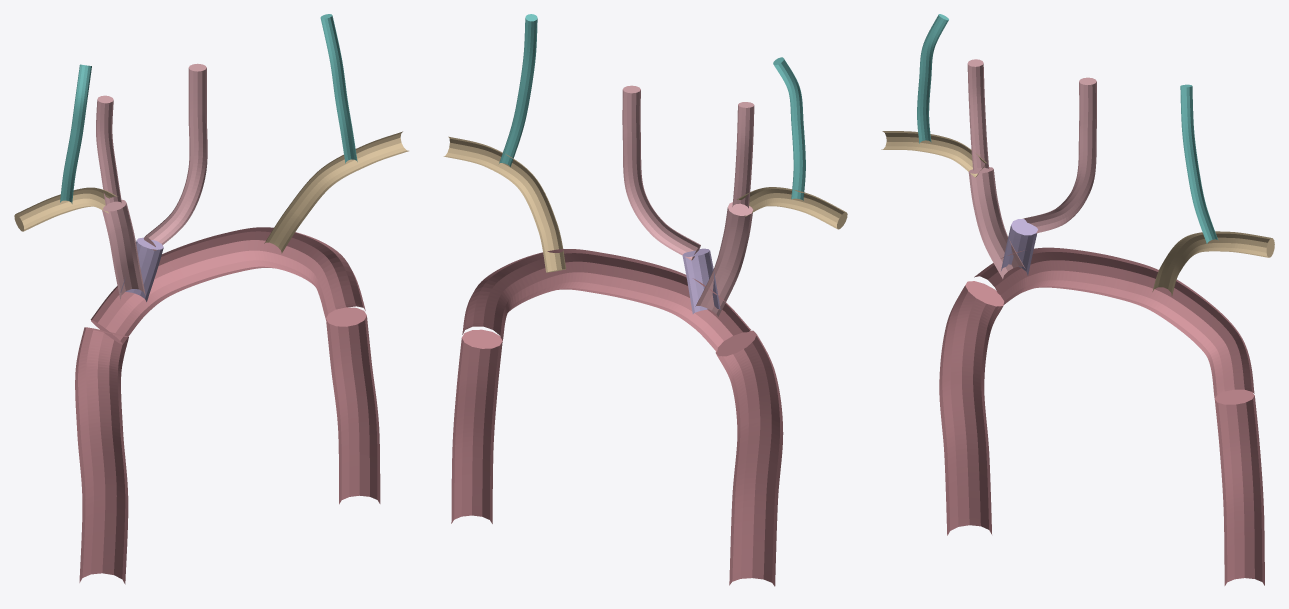
File: arch_common.glb
3 views of the same model, side by side, from view 1: azimuth 30°, elevation 25°; view 2: azimuth 150°, elevation 25°; view 3: azimuth 330°, elevation 25° (orthographic). The views are drawn at different scales.
Visible parts, largest first — view 1: Aorta ascendente, Arco aórtico, Aorta descendente, Carótida comum esquerda — origem comum, Subclávia esquerda, Tronco braquiocefálico, Artéria vertebral esquerda, Subclávia direita, Artéria vertebral direita, Carótida comum direita, Origem comum de tronco braquiocefálico e carótida esquerda; view 2: Aorta ascendente, Arco aórtico, Aorta descendente, Subclávia esquerda, Carótida comum esquerda — origem comum, Tronco braquiocefálico, Artéria vertebral esquerda, Subclávia direita, Artéria vertebral direita, Carótida comum direita, Origem comum de tronco braquiocefálico e carótida esquerda; view 3: Arco aórtico, Aorta ascendente, Aorta descendente, Carótida comum esquerda — origem comum, Subclávia esquerda, Tronco braquiocefálico, Artéria vertebral esquerda, Carótida comum direita, Subclávia direita, Artéria vertebral direita, Origem comum de tronco braquiocefálico e carótida esquerda.
Part boxes in pixels (left/top/right/bottom): Aorta ascendente: left=75, top=327, right=128, bottom=584; Arco aórtico: left=90, top=227, right=365, bottom=344; Aorta descendente: left=326, top=307, right=380, bottom=504; Carótida comum esquerda — origem comum: left=143, top=63, right=207, bottom=250; Subclávia esquerda: left=264, top=131, right=408, bottom=253; Tronco braquiocefálico: left=102, top=199, right=145, bottom=299; Artéria vertebral esquerda: left=320, top=14, right=357, bottom=163; Subclávia direita: left=14, top=187, right=117, bottom=231; Artéria vertebral direita: left=60, top=64, right=91, bottom=203; Carótida comum direita: left=96, top=95, right=121, bottom=205; Origem comum de tronco braquiocefálico e carótida esquerda: left=120, top=237, right=163, bottom=301; Aorta ascendente: left=715, top=330, right=783, bottom=586; Arco aórtico: left=462, top=249, right=750, bottom=356; Aorta descendente: left=451, top=329, right=502, bottom=523; Subclávia esquerda: left=443, top=136, right=566, bottom=272; Carótida comum esquerda — origem comum: left=622, top=85, right=700, bottom=260; Tronco braquiocefálico: left=695, top=202, right=752, bottom=316; Artéria vertebral esquerda: left=499, top=14, right=537, bottom=166; Subclávia direita: left=736, top=187, right=847, bottom=229; Artéria vertebral direita: left=773, top=57, right=805, bottom=200; Carótida comum direita: left=732, top=102, right=754, bottom=208; Origem comum de tronco braquiocefálico e carótida esquerda: left=682, top=248, right=720, bottom=313; Arco aórtico: left=974, top=247, right=1254, bottom=398; Aorta ascendente: left=939, top=281, right=1004, bottom=535; Aorta descendente: left=1214, top=389, right=1264, bottom=585; Carótida comum esquerda — origem comum: left=1023, top=77, right=1096, bottom=233; Subclávia esquerda: left=1152, top=231, right=1274, bottom=295; Tronco braquiocefálico: left=968, top=167, right=1025, bottom=278; Artéria vertebral esquerda: left=1180, top=84, right=1218, bottom=243; Carótida comum direita: left=967, top=59, right=988, bottom=170; Subclávia direita: left=881, top=131, right=986, bottom=177; Artéria vertebral direita: left=917, top=14, right=948, bottom=143; Origem comum de tronco braquiocefálico e carótida esquerda: left=1001, top=219, right=1037, bottom=275.
Bounding box in the file's own units: 7.75 × 9.97 × 1.41.
